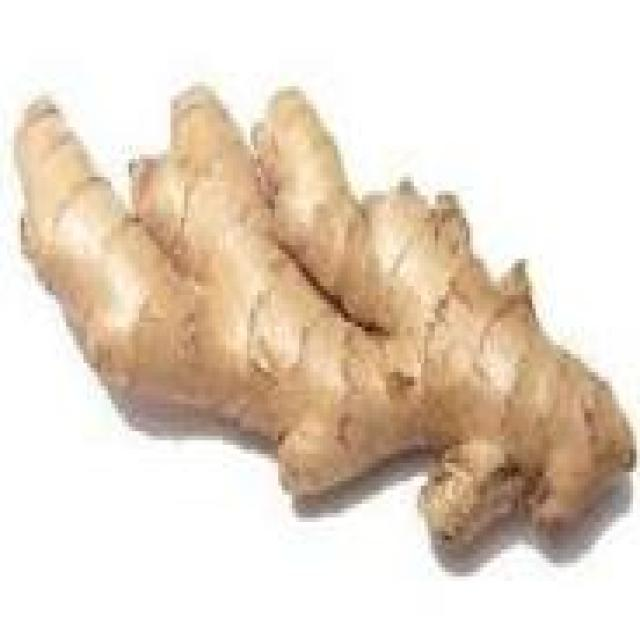ginger: (4, 59, 636, 595)
